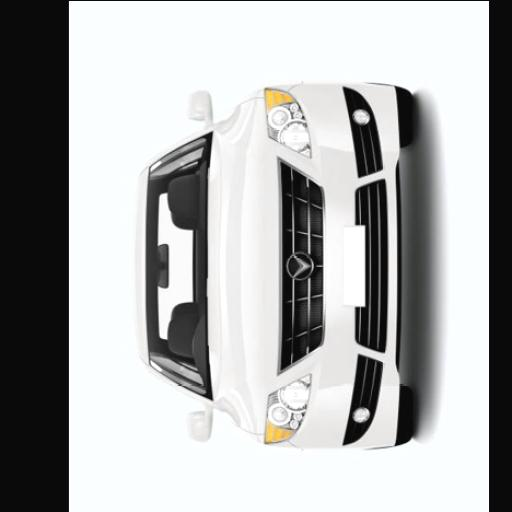hatchback: (135, 83, 411, 447)
